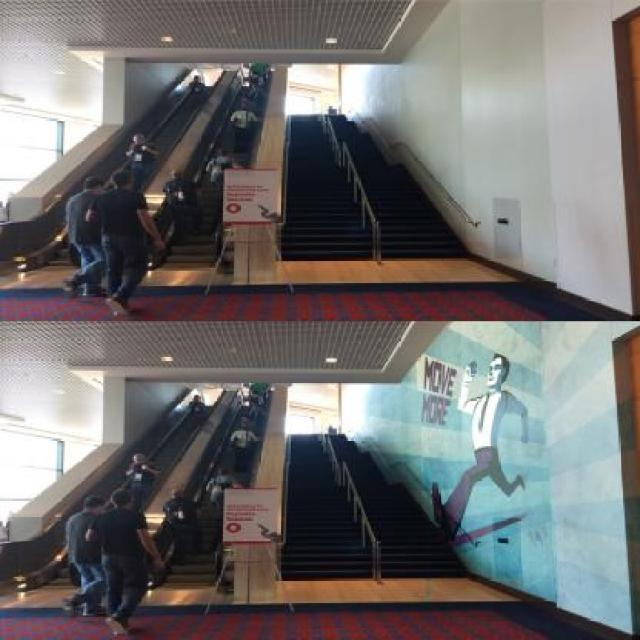stair: (48, 403, 209, 586), (52, 88, 211, 268), (278, 110, 462, 262), (277, 428, 457, 578), (154, 76, 260, 270), (160, 400, 268, 589)
